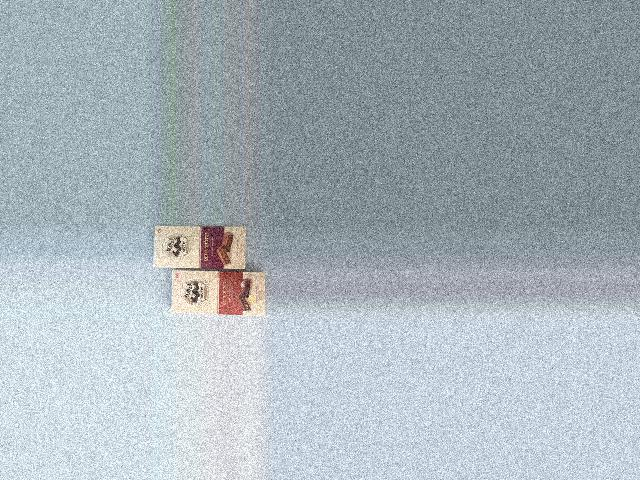chocolate: (167, 260, 267, 317)
